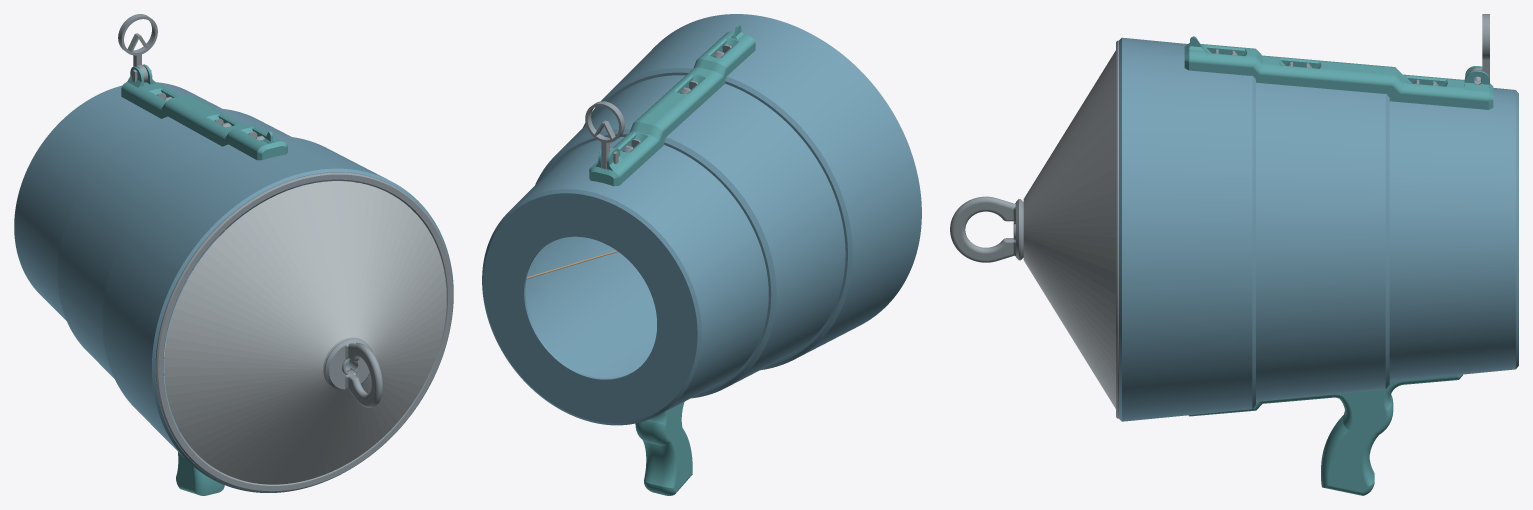
File: core-pull-60mm-study.glb
The picture shows the model from 3 angles, left to right: view 1: azimuth 30°, elevation 25°; view 2: azimuth 150°, elevation 25°; view 3: azimuth 270°, elevation 25°; orthographic projection. The views are drawn at different scales.
Visible parts, largest first — view 1: film-study, stock-7, stock-8, stock-6, stock-10, stock-3, stock-5, stock-4, stock-2; view 2: stock-6, stock-8, stock-7, stock-3, stock-4, stock-2; view 3: stock-7, stock-8, stock-6, film-study, stock-3, stock-4, stock-5, stock-10.
Boxes of the visible parts, x1,y1,x2,y2 form: film-study: [164, 181, 446, 484]; stock-7: [102, 136, 453, 492]; stock-8: [57, 108, 362, 432]; stock-6: [14, 82, 303, 375]; stock-10: [155, 172, 453, 491]; stock-3: [121, 64, 287, 160]; stock-5: [324, 338, 382, 407]; stock-4: [176, 452, 224, 495]; stock-2: [118, 14, 157, 82]; stock-6: [482, 137, 768, 425]; stock-8: [534, 75, 845, 398]; stock-7: [583, 14, 921, 370]; stock-3: [589, 24, 755, 186]; stock-4: [635, 402, 692, 495]; stock-2: [585, 101, 624, 169]; stock-7: [1119, 37, 1255, 421]; stock-8: [1256, 82, 1389, 401]; stock-6: [1389, 88, 1518, 381]; film-study: [1023, 50, 1115, 408]; stock-3: [1184, 36, 1493, 109]; stock-4: [1188, 374, 1462, 495]; stock-5: [950, 196, 1023, 262]; stock-10: [1116, 40, 1118, 418].
Size of the model in its own units: 0.2496 by 0.341 by 0.3698.
